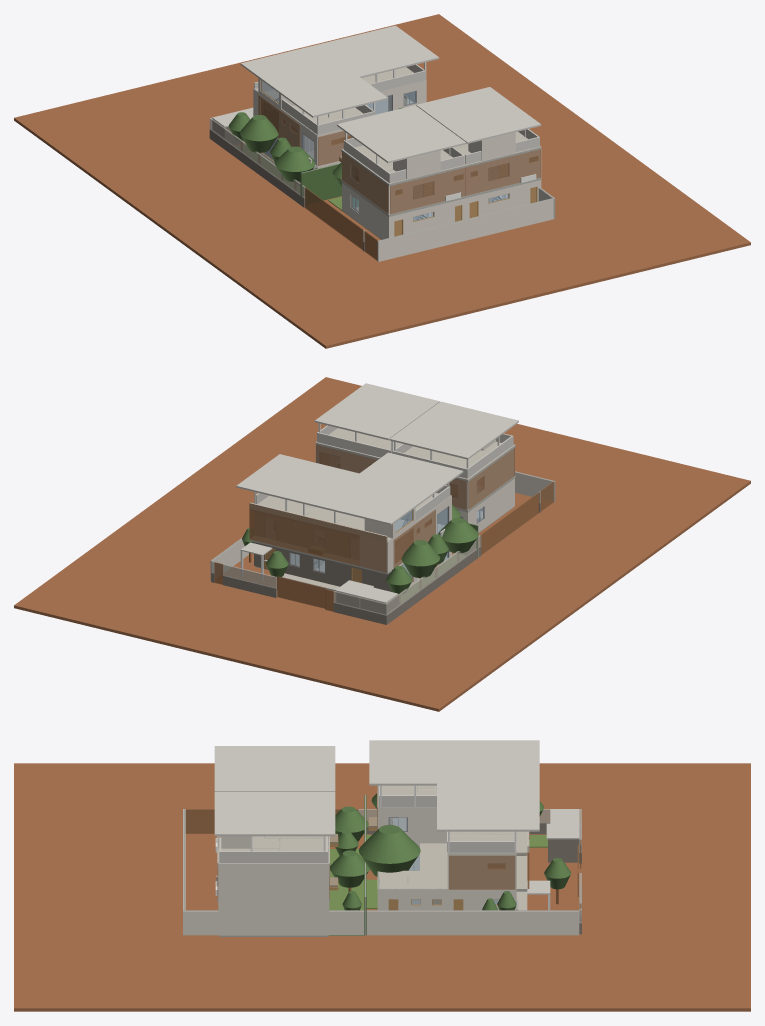
Rendered from Lot1728_v5.glb.
The picture shows the model from 3 angles, top to bottom: view 1: azimuth 30°, elevation 25°; view 2: azimuth 150°, elevation 25°; view 3: azimuth 270°, elevation 25°; orthographic projection. The views are drawn at different scales.
Visible parts, largest first — view 1: 100417, 100176, 100320, 100343, 100366, 100238, 100187, 100345, 100322, 100323, 100361, 100239 (+15 smaller); view 2: 100417, 100176, 100182, 100320, 100343, 100016, 100143, 100323, 100361, 100239, 100237, 100188 (+19 smaller); view 3: 100417, 100176, 100320, 100343, 100363, 100240, 100189, 100142, 100087, 100023, 100185, 100421 (+15 smaller).
Part boxes in pixels (x1,y1,x2,y2): 100417: [14, 14, 750, 348]; 100176: [240, 25, 439, 117]; 100320: [337, 105, 466, 163]; 100343: [416, 87, 541, 143]; 100366: [377, 198, 553, 261]; 100238: [388, 146, 541, 214]; 100187: [389, 177, 541, 237]; 100345: [465, 149, 540, 195]; 100322: [390, 167, 465, 214]; 100323: [342, 152, 388, 213]; 100361: [304, 187, 363, 250]; 100239: [342, 150, 388, 213]; 100417: [14, 377, 750, 711]; 100176: [236, 452, 463, 525]; 100182: [249, 503, 387, 572]; 100320: [389, 401, 518, 459]; 100343: [314, 383, 439, 440]; 100016: [254, 542, 392, 591]; 100143: [258, 493, 438, 540]; 100323: [468, 448, 514, 509]; 100361: [480, 492, 539, 554]; 100239: [468, 445, 514, 509]; 100237: [315, 441, 467, 509]; 100188: [468, 478, 514, 532]; 100417: [14, 763, 750, 1011]; 100176: [369, 740, 539, 831]; 100320: [214, 746, 335, 791]; 100343: [214, 791, 335, 836]; 100363: [366, 910, 579, 935]; 100240: [218, 863, 329, 899]; 100189: [218, 899, 329, 935]; 100142: [379, 817, 527, 891]; 100087: [447, 852, 516, 889]; 100023: [377, 888, 516, 910]; 100185: [449, 855, 515, 889]; 100421: [359, 825, 420, 876].
Bounding box in the file's own units: 48 × 9.63 × 61.
